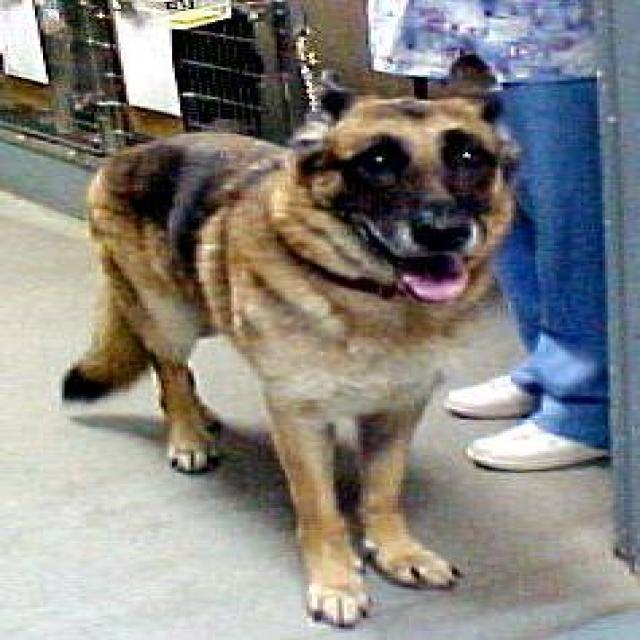dog: (27, 48, 524, 634)
